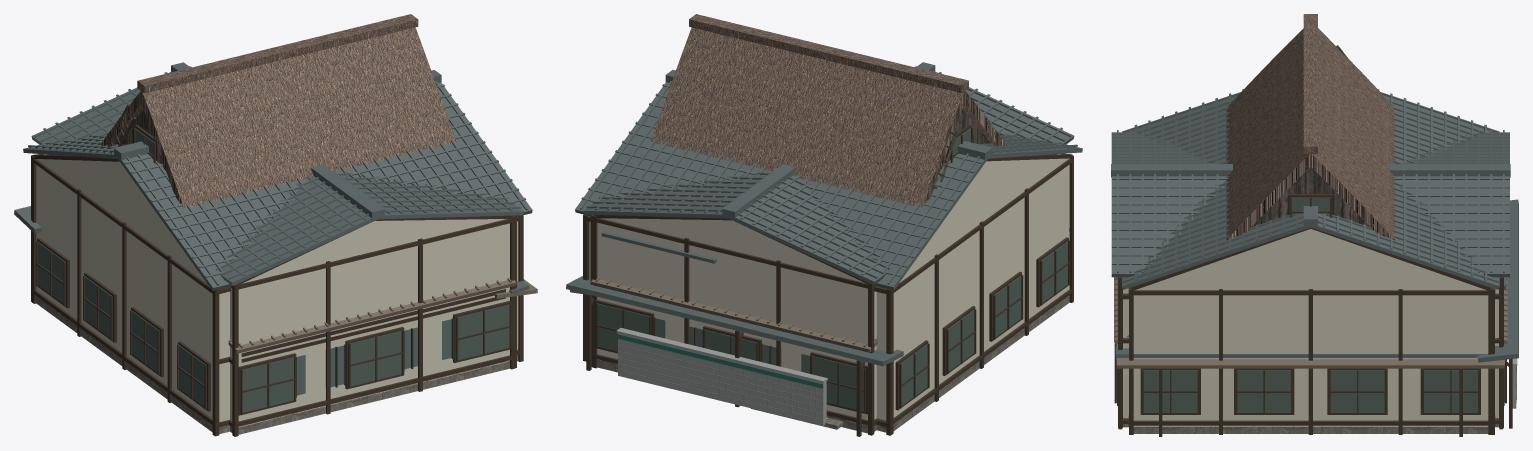
File: act1-sides.glb
The picture shows the model from 3 angles, left to right: view 1: azimuth 30°, elevation 25°; view 2: azimuth 150°, elevation 25°; view 3: azimuth 270°, elevation 25°; orthographic projection.
Parts seen in each view (by area): view 1: 236248636-Bound kaya reeds.048, 236248639-Side buildings aged lime.007, 236248655-Side buildings aged lime.007, 236248655-Weathered grey roof tile.048, 236248639-Weathered grey roof tile.048, 236248655-Dark structural timber.048, 236248639-Dark structural timber.048, 236248639-Recessed muted glazing.043, 236248655-Recessed muted glazing.043, 586010787-Dark structural timber.048, 586010787-Side buildings brown metal roof.007, 236248639-Foundation granite.048 (+3 smaller); view 2: 236248636-Bound kaya reeds.048, 236248655-Weathered grey roof tile.048, 236248639-Side buildings aged lime.007, 236248655-Side buildings aged lime.007, 236248639-Weathered grey roof tile.048, 236248655-Dark structural timber.048, 586010787-North roadside concrete blocks.002, 236248639-Dark structural timber.048, 236248655-Recessed muted glazing.043, 236248639-Recessed muted glazing.043, 586010787-Side buildings brown metal roof.007, 586010787-North roadside mortar joints.002 (+4 smaller); view 3: 236248655-Side buildings aged lime.007, 236248636-Bound kaya reeds.048, 236248639-Weathered grey roof tile.048, 236248655-Weathered grey roof tile.048, 236248655-Dark structural timber.048, 236248655-Recessed muted glazing.043, 586010787-Side buildings brown metal roof.007, 236248655-Foundation granite.048, 236248639-Dark structural timber.048, 236248636-Smoke-aged cedar.048, 236248639-Side buildings aged lime.007, 586010787-Dark structural timber.048 (+2 smaller).
Boxes of the visible parts, x1,y1,x2,y2 form: 236248636-Bound kaya reeds.048: [100, 14, 456, 208]; 236248639-Side buildings aged lime.007: [230, 219, 509, 427]; 236248655-Side buildings aged lime.007: [36, 154, 518, 422]; 236248655-Weathered grey roof tile.048: [14, 70, 532, 290]; 236248639-Weathered grey roof tile.048: [31, 62, 529, 294]; 236248655-Dark structural timber.048: [31, 154, 523, 436]; 236248639-Dark structural timber.048: [229, 215, 516, 436]; 236248639-Recessed muted glazing.043: [242, 304, 509, 412]; 236248655-Recessed muted glazing.043: [38, 242, 205, 406]; 586010787-Dark structural timber.048: [241, 289, 505, 425]; 586010787-Side buildings brown metal roof.007: [228, 277, 537, 353]; 236248639-Foundation granite.048: [230, 361, 509, 434]; 236248636-Bound kaya reeds.048: [651, 14, 1005, 208]; 236248655-Weathered grey roof tile.048: [566, 70, 1082, 366]; 236248639-Side buildings aged lime.007: [597, 218, 876, 425]; 236248655-Side buildings aged lime.007: [589, 154, 1069, 420]; 236248639-Weathered grey roof tile.048: [583, 62, 1074, 284]; 236248655-Dark structural timber.048: [583, 154, 1073, 436]; 586010787-North roadside concrete blocks.002: [616, 328, 827, 425]; 236248639-Dark structural timber.048: [590, 153, 1064, 435]; 236248655-Recessed muted glazing.043: [901, 241, 1067, 405]; 236248639-Recessed muted glazing.043: [598, 303, 863, 411]; 586010787-Side buildings brown metal roof.007: [570, 277, 877, 352]; 586010787-North roadside mortar joints.002: [617, 336, 823, 420]; 236248655-Side buildings aged lime.007: [1133, 229, 1488, 426]; 236248636-Bound kaya reeds.048: [1226, 14, 1395, 240]; 236248639-Weathered grey roof tile.048: [1111, 130, 1510, 357]; 236248655-Weathered grey roof tile.048: [1122, 89, 1518, 362]; 236248655-Dark structural timber.048: [1128, 227, 1512, 434]; 236248655-Recessed muted glazing.043: [1143, 370, 1477, 412]; 586010787-Side buildings brown metal roof.007: [1114, 277, 1507, 368]; 236248655-Foundation granite.048: [1133, 426, 1488, 433]; 236248639-Dark structural timber.048: [1114, 277, 1506, 429]; 236248636-Smoke-aged cedar.048: [1251, 45, 1369, 227]; 236248639-Side buildings aged lime.007: [1123, 288, 1498, 418]; 586010787-Dark structural timber.048: [1159, 368, 1462, 436].
Bounding box in the file's own units: 11.78 × 9.83 × 12.98.
Materials: 14 (3 with a texture image).
